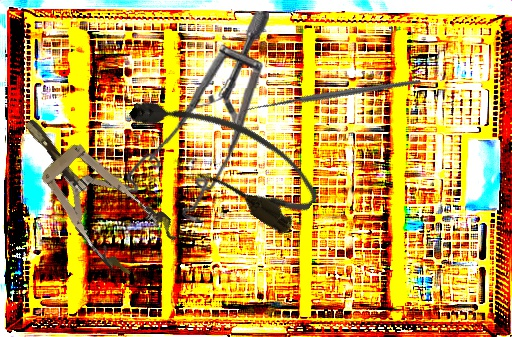Cannula: (120, 68, 328, 240)
Hook Surgical: (238, 22, 422, 177)
Speculum: (0, 95, 183, 285), (122, 8, 269, 224)
